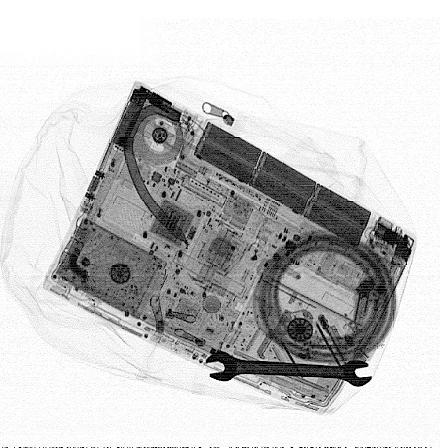Wrench: (202, 350, 374, 388)
